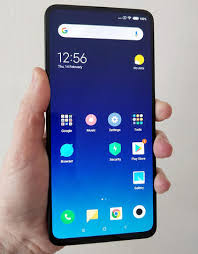mi: (41, 1, 160, 246)
